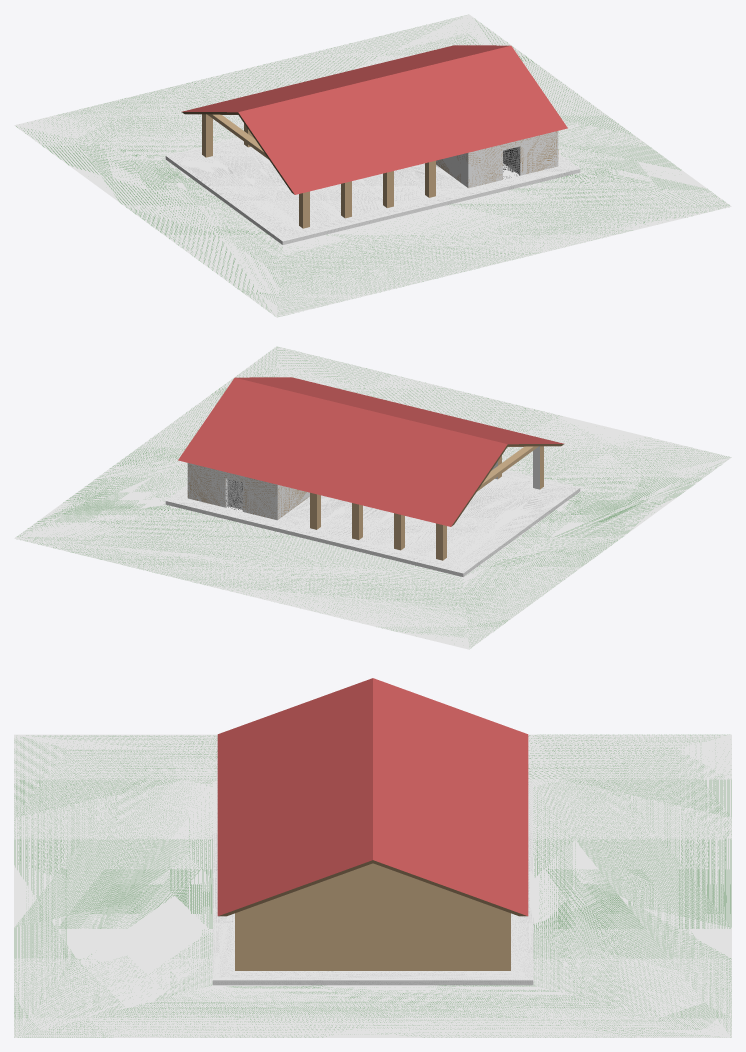
Rendered from 25_restroom.dae.
The picture shows the model from 3 angles, top to bottom: view 1: azimuth 30°, elevation 25°; view 2: azimuth 150°, elevation 25°; view 3: azimuth 270°, elevation 25°; orthographic projection. The views are drawn at different scales.
Visible parts, largest first — view 1: SketchUp (×6); view 2: SketchUp (×6); view 3: SketchUp (×5).
Boxes of the visible parts, <box> form: SketchUp (×6): <box>14,14,731,317</box>; SketchUp (×6): <box>14,346,731,649</box>; SketchUp (×5): <box>14,678,731,1037</box>.
Size of the model in its own units: 65 by 65 by 11.82.
